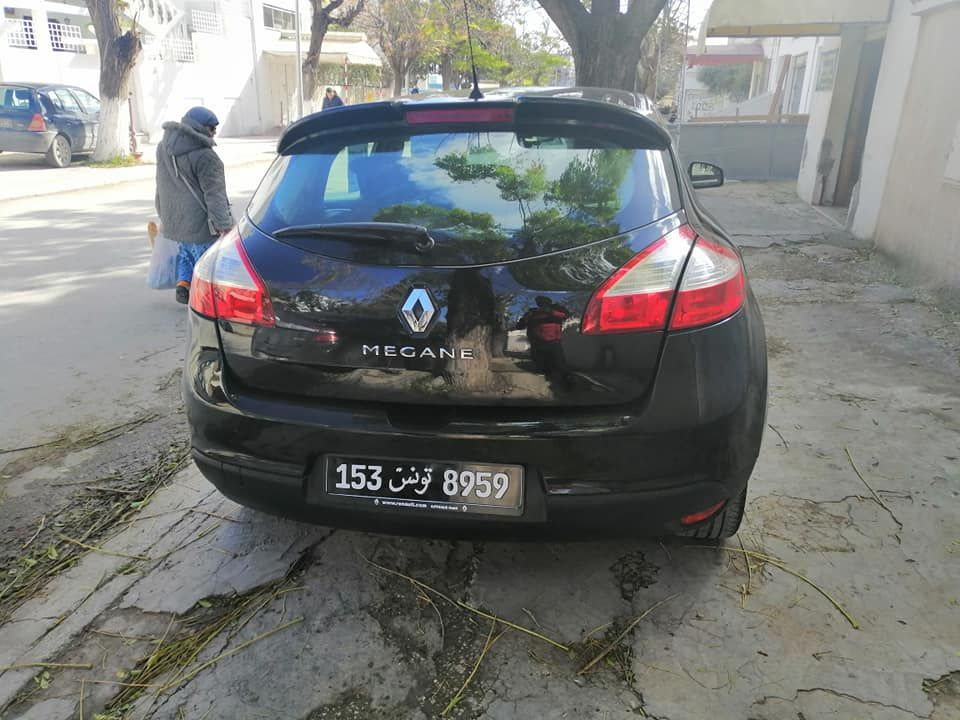LP: (323, 452, 523, 511)
